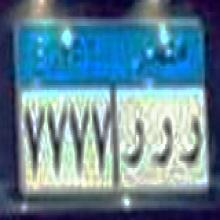7: (46, 102, 68, 175), (22, 102, 44, 175), (68, 104, 89, 180), (92, 104, 111, 177)
raa: (149, 114, 175, 169), (180, 111, 201, 174), (122, 115, 144, 172)
